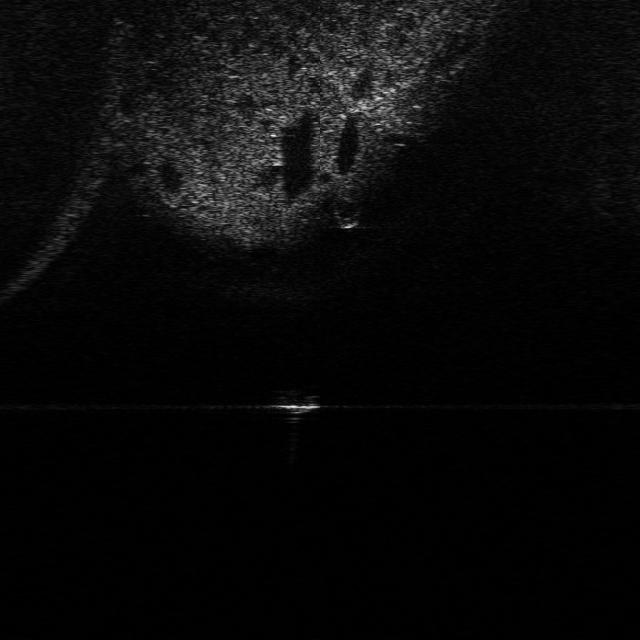ball: (329, 187, 368, 228)
cube: (266, 386, 324, 417)
